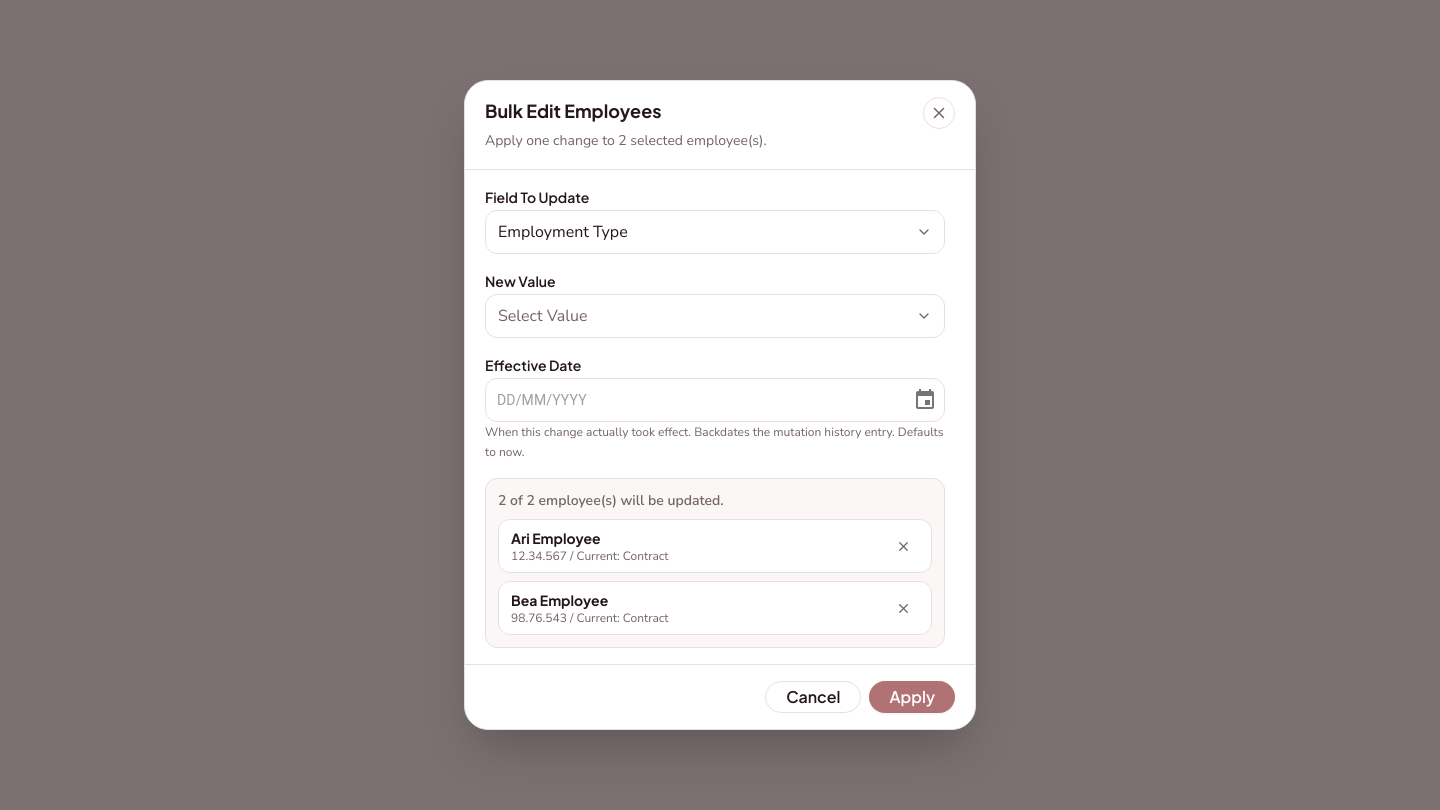
Test: BulkEditEmployeeDialog › disables apply when every employee is excluded
Click the button "Select Value" at (543, 316), box [485, 294, 945, 338]
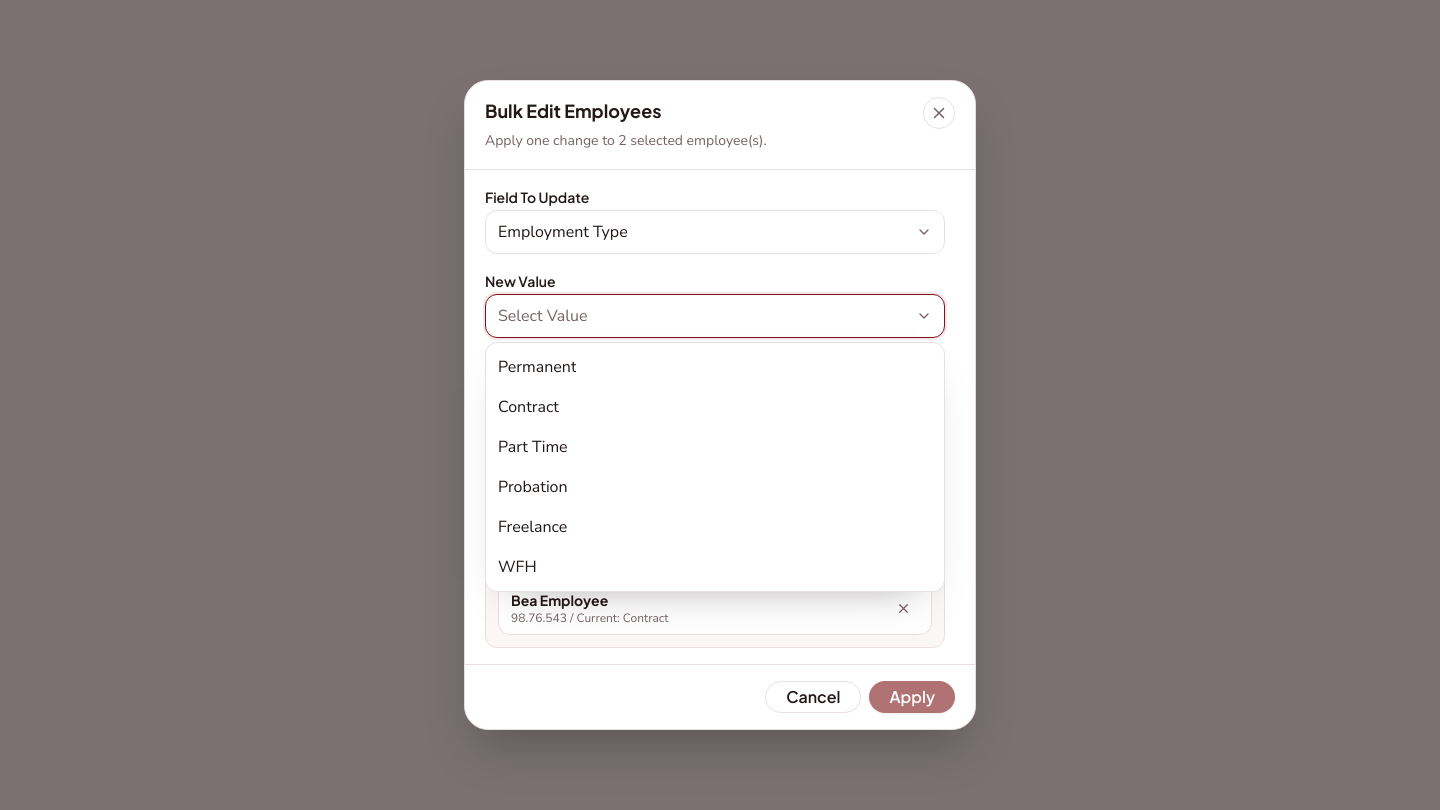
Click the option "Permanent" at (537, 367), box [486, 347, 944, 387]
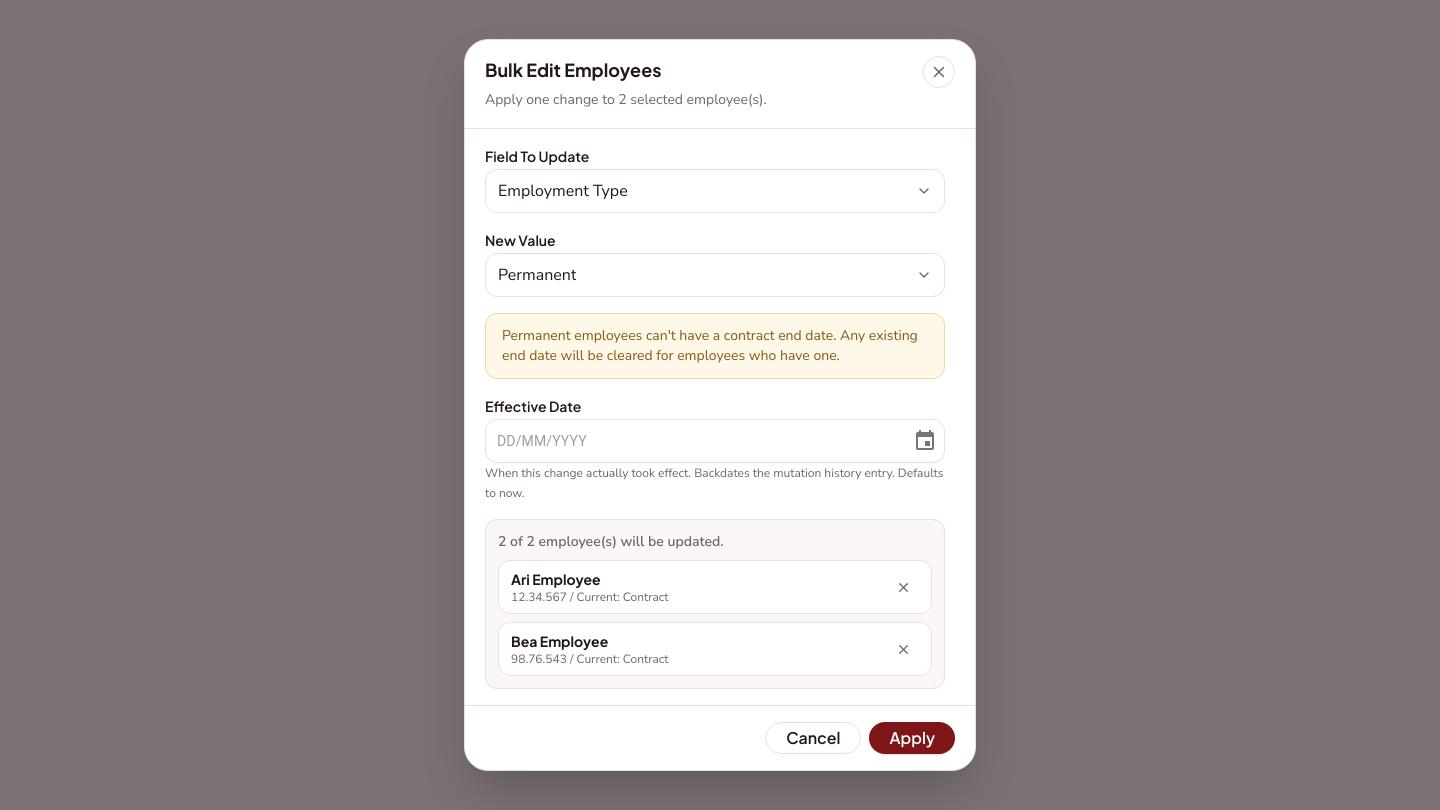
Click the button named "Exclude this employee" in the row of "Ari Employee" at (903, 587), box [887, 571, 919, 603]
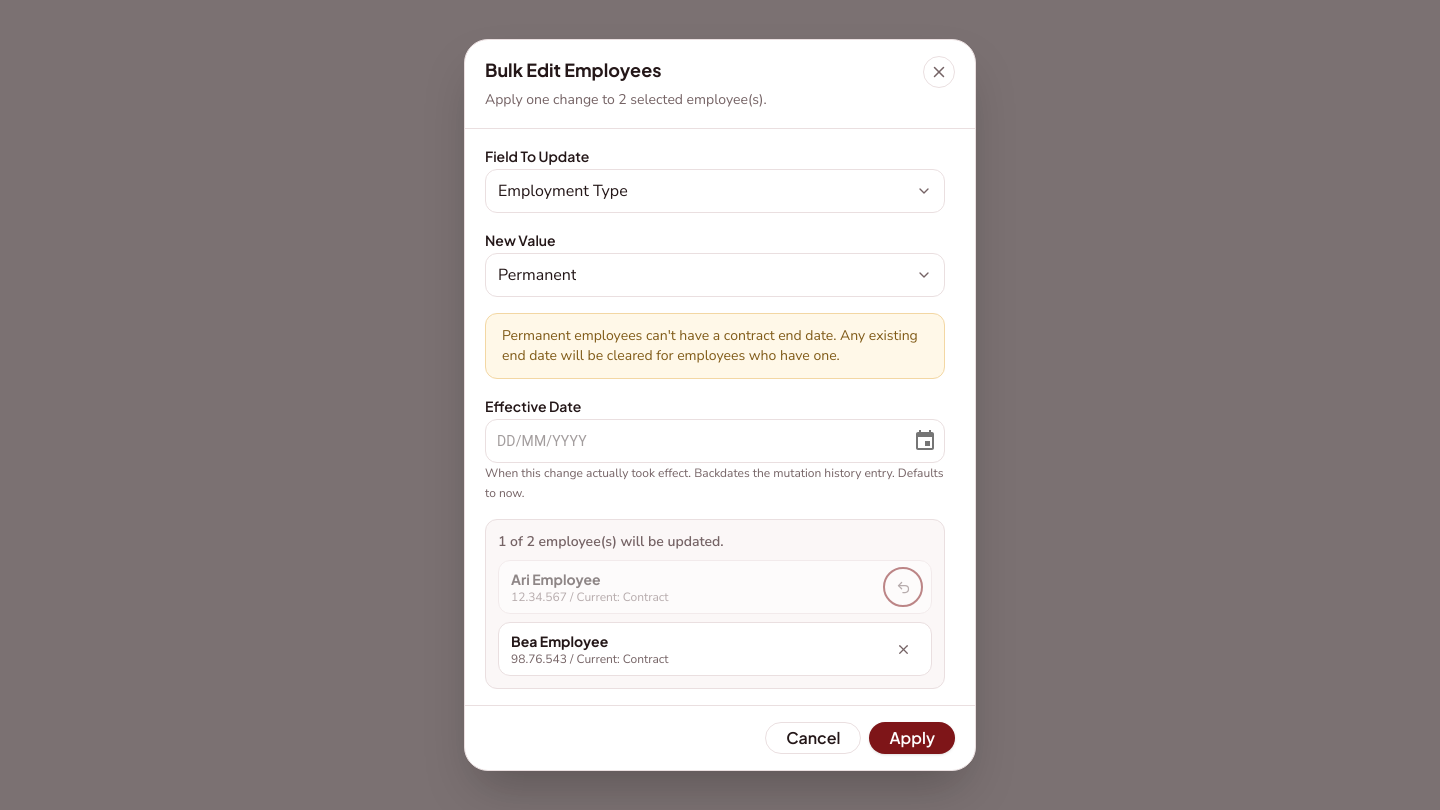
Click the button named "Exclude this employee" at (903, 649), box [887, 633, 919, 665]
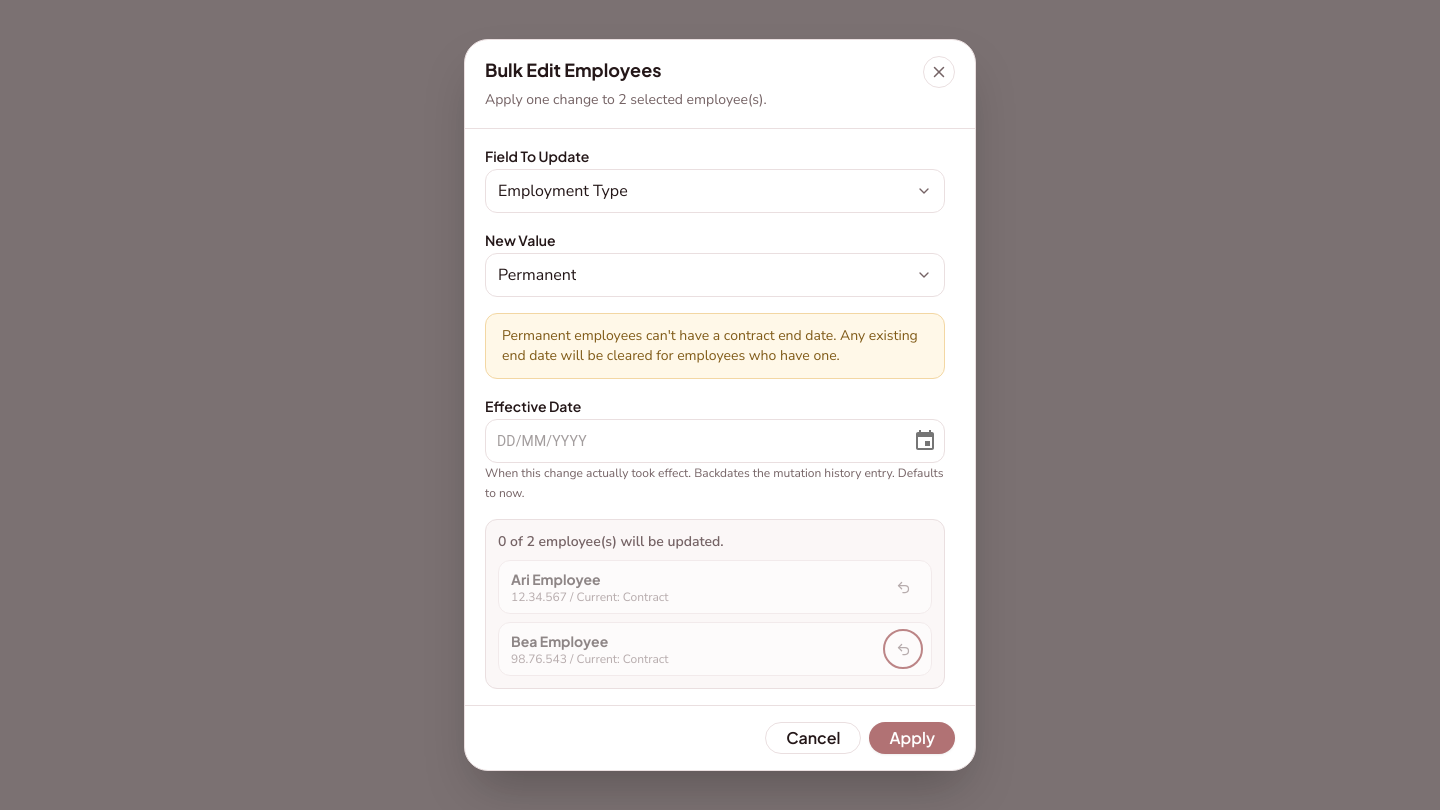
Expected: the text "0 of 2 employee(s) will be updated." is shown, [498, 532, 724, 551]
Expected: the button "Apply" is disabled, [870, 722, 955, 754]
